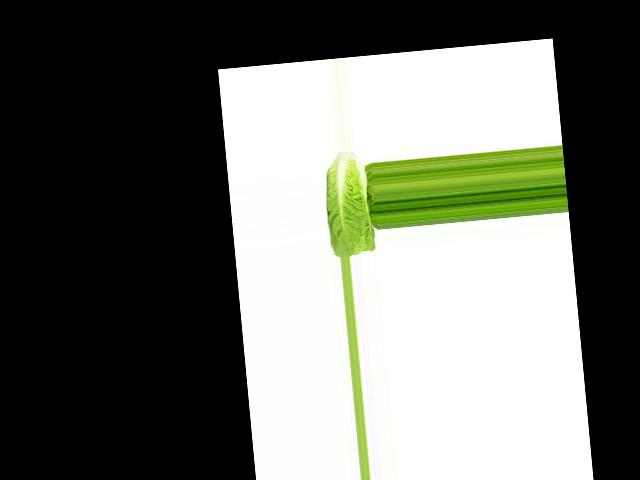lettuce: (314, 150, 374, 259)
